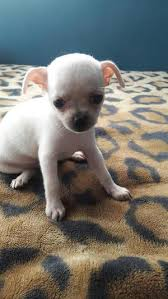chihuahua: (1, 41, 133, 225)
